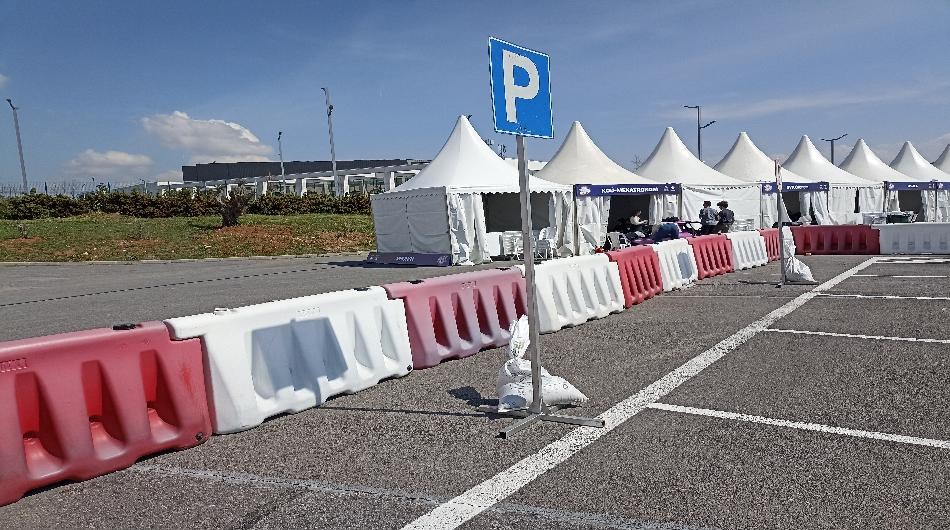park: (487, 34, 556, 140)
